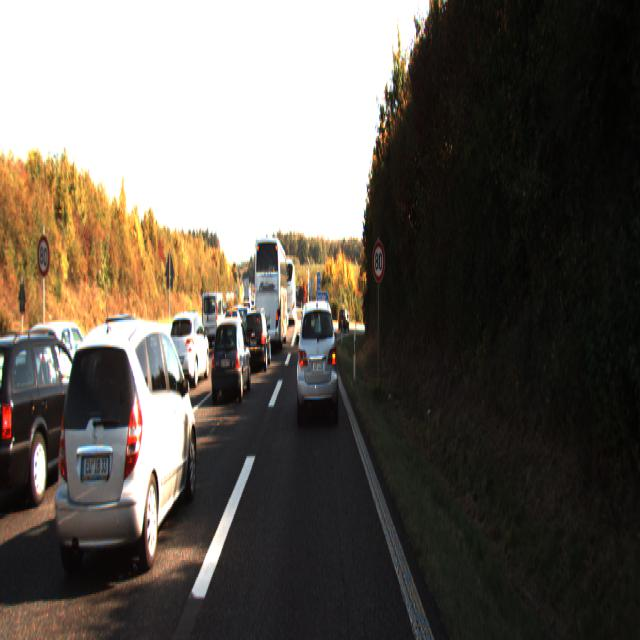Car: (53, 313, 199, 586), (0, 328, 104, 522), (10, 316, 107, 431), (295, 295, 339, 425), (253, 234, 288, 352), (100, 310, 151, 388), (210, 315, 252, 403), (165, 308, 210, 388), (242, 305, 271, 369), (200, 292, 224, 346), (282, 260, 297, 327), (338, 307, 349, 333)
